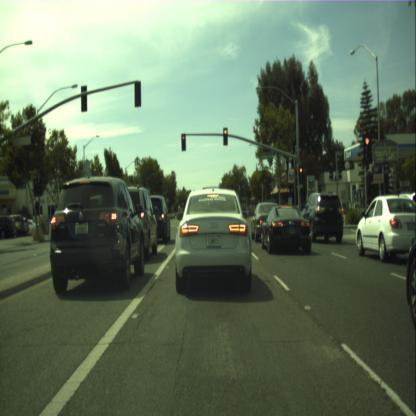Red: (363, 134, 371, 162), (222, 127, 228, 145), (298, 166, 303, 184)
RedLeft: (182, 134, 186, 150)
